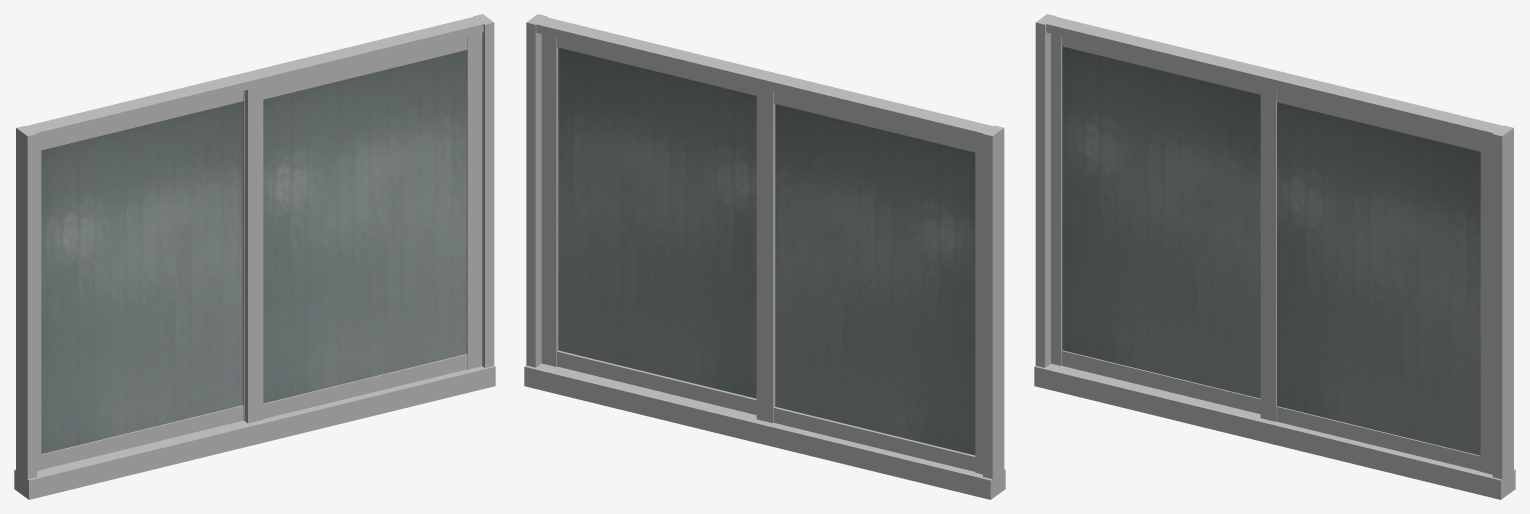
File: MobBil_window01a.fbx
The picture shows the model from 3 angles, left to right: view 1: azimuth 30°, elevation 25°; view 2: azimuth 150°, elevation 25°; view 3: azimuth 330°, elevation 25°; orthographic projection.
Parts seen in each view (by area): view 1: MobBil_window01a; view 2: MobBil_window01a; view 3: MobBil_window01a.
Part boxes in pixels (left/top/right/bottom): MobBil_window01a: left=14, top=14, right=495, bottom=499; MobBil_window01a: left=524, top=14, right=1005, bottom=499; MobBil_window01a: left=1034, top=14, right=1515, bottom=499.
Size of the model in its own units: 1.5 by 1.11 by 0.083.
